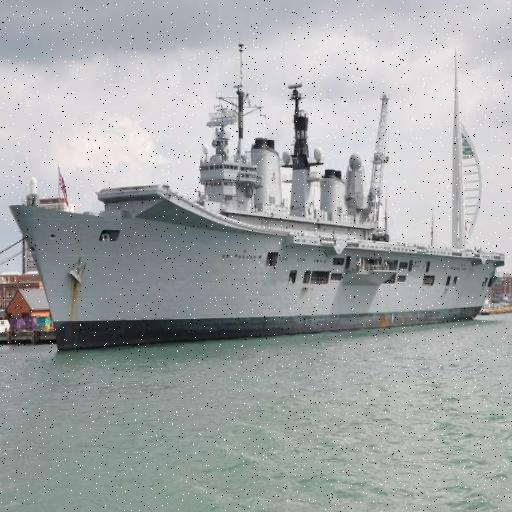Portanaves: (9, 45, 510, 355)
